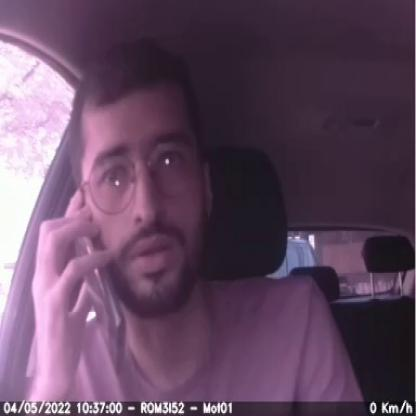phone: (53, 192, 130, 378)
